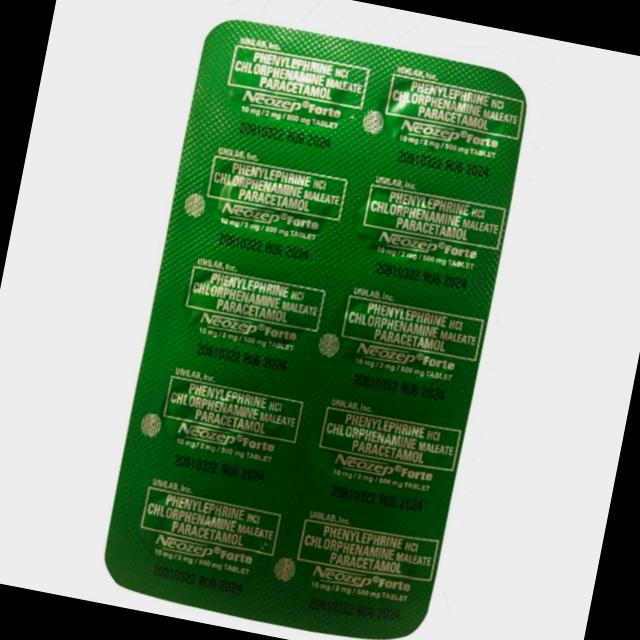blister: (84, 2, 551, 640)
